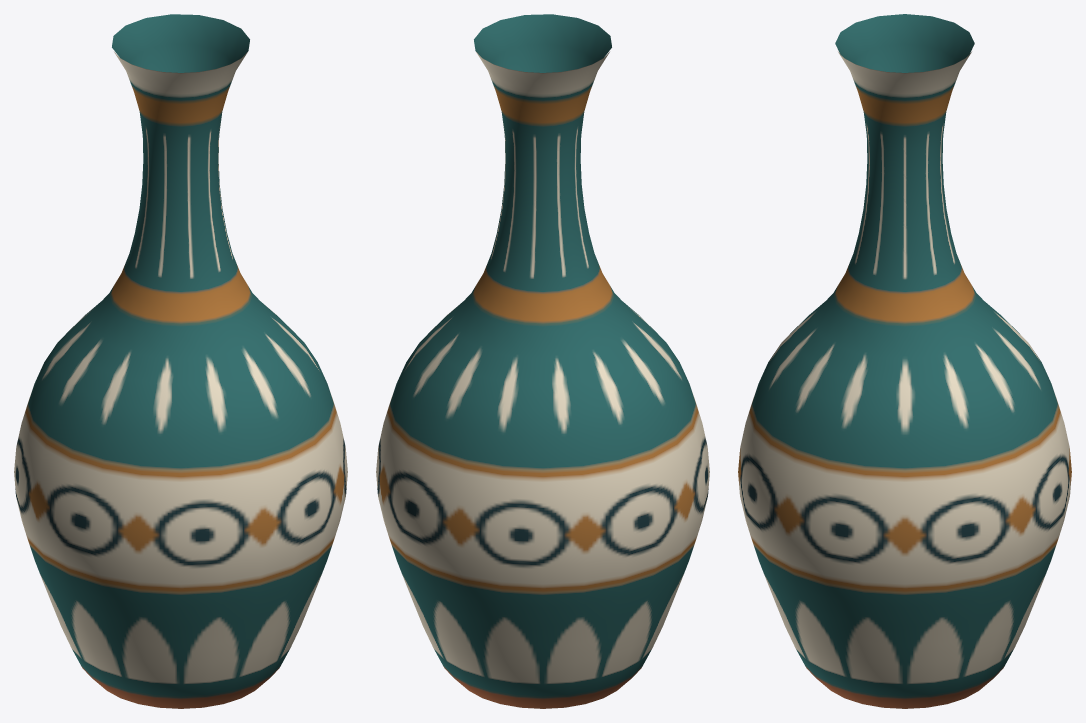
The model's file is prop-vase-a.glb.
3 renders of one model, left to right at view 1: azimuth 30°, elevation 25°; view 2: azimuth 150°, elevation 25°; view 3: azimuth 270°, elevation 25°, orthographic.
Parts seen in each view (by area): view 1: piece_PaintedVaseA, piece_CeramicTeal; view 2: piece_PaintedVaseA, piece_CeramicTeal; view 3: piece_PaintedVaseA, piece_CeramicTeal.
Part boxes in pixels (<box>): piece_PaintedVaseA: <box>14,52,347,708</box>; piece_CeramicTeal: <box>112,14,249,72</box>; piece_PaintedVaseA: <box>376,52,709,708</box>; piece_CeramicTeal: <box>474,14,611,72</box>; piece_PaintedVaseA: <box>738,52,1071,708</box>; piece_CeramicTeal: <box>835,14,974,72</box>.
Size of the model in its own units: 0.1721 by 0.358 by 0.1721.
Materials: 2 (1 with a texture image).
